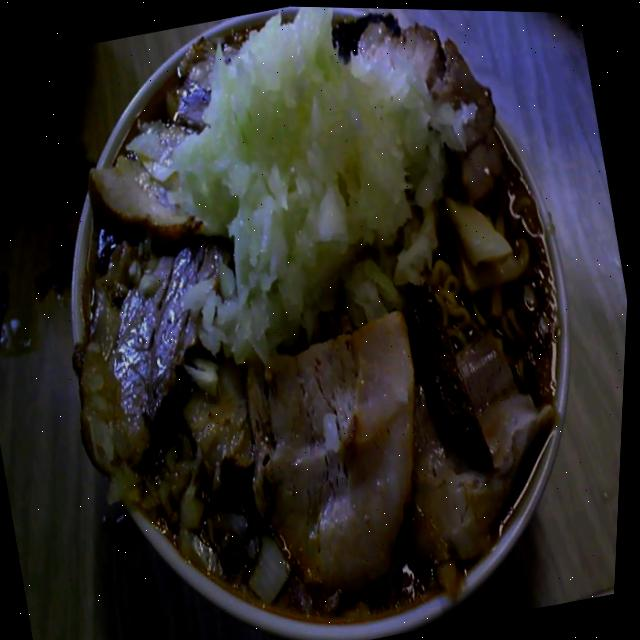面条主食: (6, 0, 620, 640)
